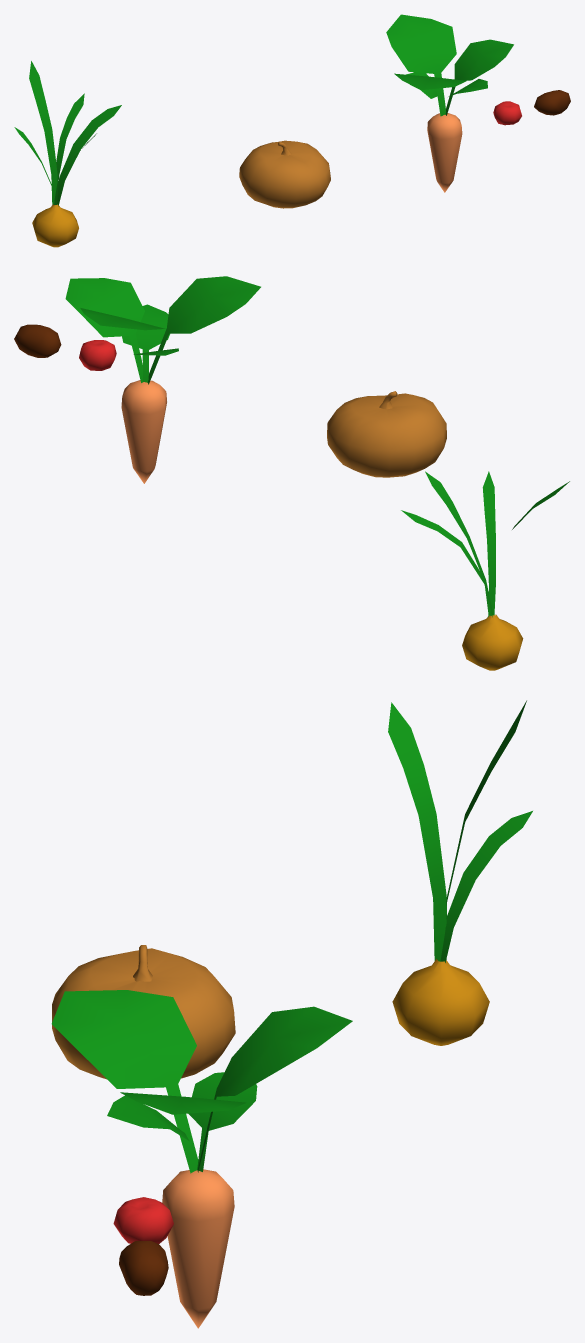
File: овощи_штучно.glb
The picture shows the model from 3 angles, top to bottom: view 1: azimuth 30°, elevation 25°; view 2: azimuth 150°, elevation 25°; view 3: azimuth 270°, elevation 25°; orthographic projection. The views are drawn at different scales.
Visible parts, largest first — view 1: Carrot_single001, Pumpkin_low, Onion_single001, Potato_low, Tomato_low; view 2: Carrot_single001, Pumpkin_low, Onion_single001, Potato_low, Tomato_low; view 3: Carrot_single001, Onion_single001, Pumpkin_low, Potato_low, Tomato_low.
Part boxes in pixels (x1,y1,x2,y2): Carrot_single001: (386, 14, 513, 192); Pumpkin_low: (239, 140, 330, 208); Onion_single001: (14, 61, 121, 247); Potato_low: (534, 90, 570, 115); Tomato_low: (493, 101, 521, 125); Carrot_single001: (65, 276, 260, 483); Pumpkin_low: (327, 391, 446, 477); Onion_single001: (401, 471, 569, 670); Potato_low: (14, 324, 61, 357); Tomato_low: (79, 340, 116, 370); Carrot_single001: (51, 990, 352, 1328); Onion_single001: (388, 700, 532, 1045); Pumpkin_low: (52, 945, 235, 1079); Potato_low: (119, 1241, 168, 1295); Tomato_low: (113, 1197, 173, 1243).
Size of the model in its own units: 3.46 by 1.16 by 1.48.
